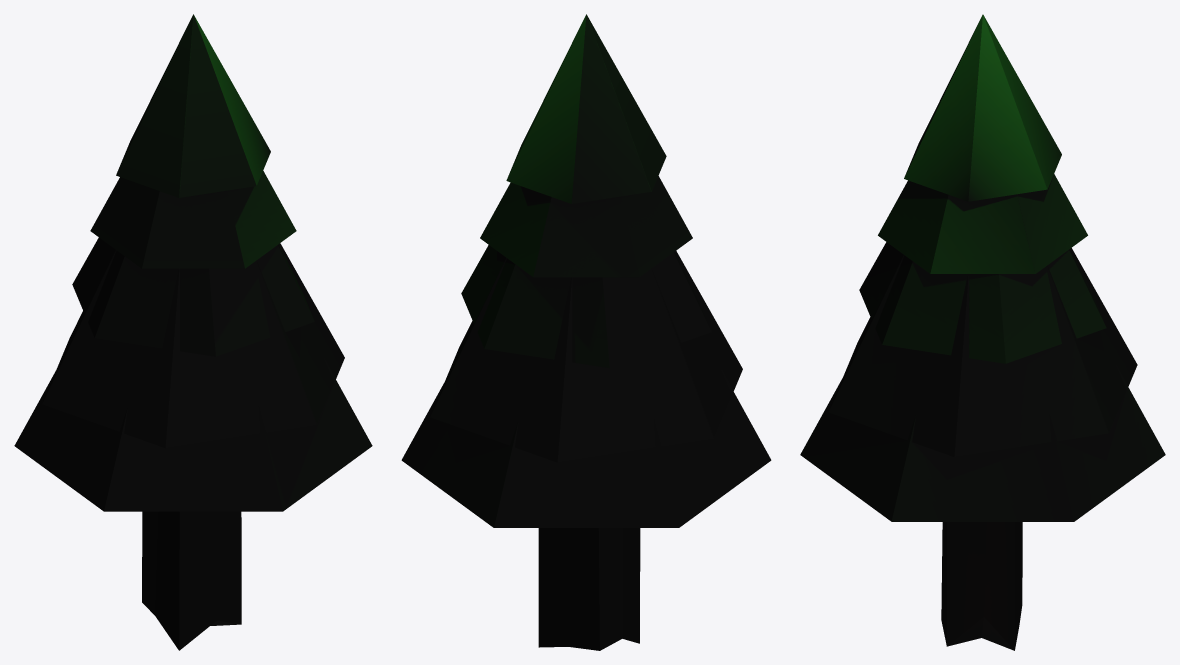
File: sapin.gltf
The picture shows the model from 3 angles, left to right: view 1: azimuth 30°, elevation 25°; view 2: azimuth 150°, elevation 25°; view 3: azimuth 270°, elevation 25°; orthographic projection. The views are drawn at different scales.
Visible parts, largest first — view 1: sapin; view 2: sapin; view 3: sapin.
Part boxes in pixels (bbox=[...]): sapin: bbox=[14, 14, 372, 650]; sapin: bbox=[401, 14, 771, 650]; sapin: bbox=[800, 14, 1165, 650].
Size of the model in its own units: 1.77 by 3.79 by 2.
Materials: 1 (1 with a texture image).
